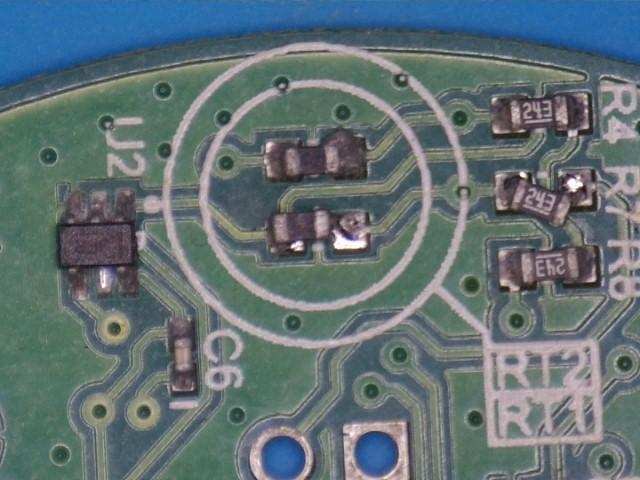Incorrect_installation: (494, 168, 596, 229), (267, 209, 371, 257)
